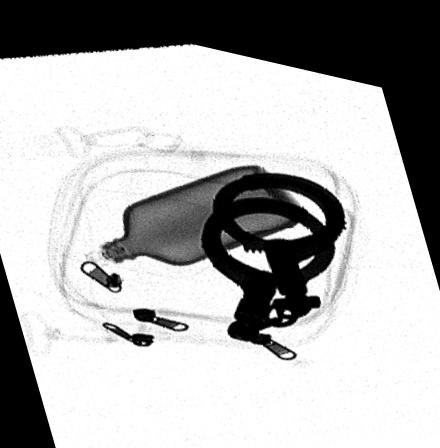HandCuffs: (200, 158, 346, 332)
